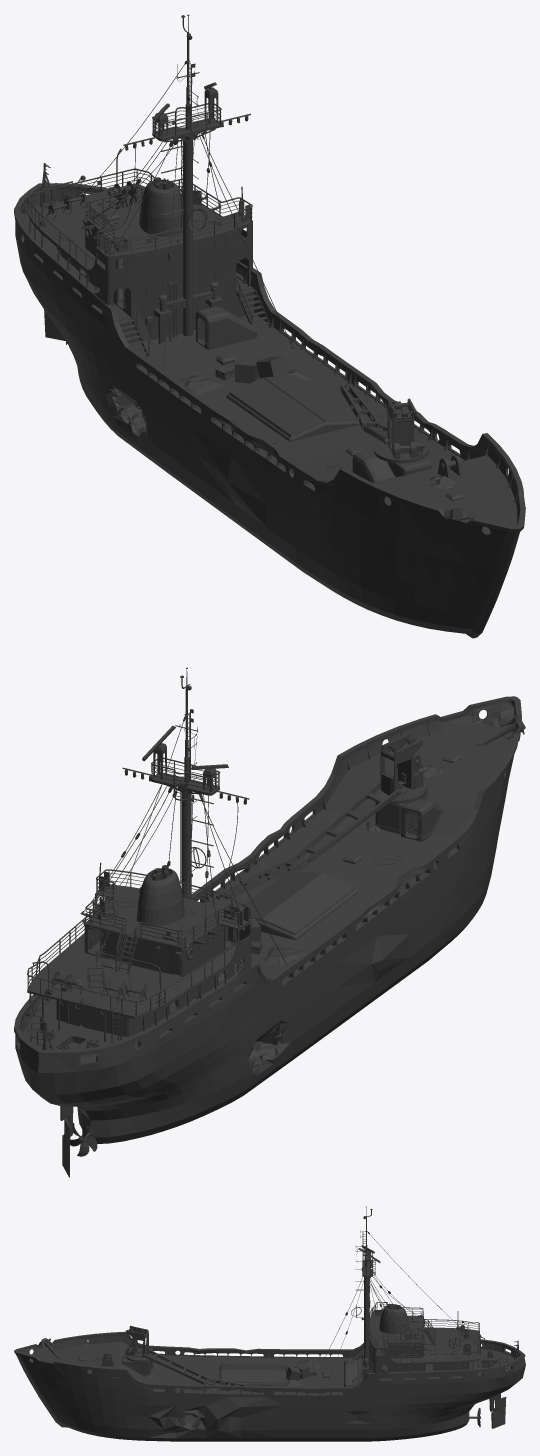
The model's file is mesh_2206_Shipwreck_13_LOD0.glb.
The picture shows the model from 3 angles, top to bottom: view 1: azimuth 30°, elevation 25°; view 2: azimuth 150°, elevation 25°; view 3: azimuth 270°, elevation 25°; orthographic projection. The views are drawn at different scales.
Parts seen in each view (by area): view 1: Shipwreck_13_LOD0; view 2: Shipwreck_13_LOD0; view 3: Shipwreck_13_LOD0.
Part boxes in pixels (x1,y1,x2,y2): Shipwreck_13_LOD0: (14, 14, 525, 638); Shipwreck_13_LOD0: (14, 667, 525, 1177); Shipwreck_13_LOD0: (14, 1206, 525, 1441).
Size of the model in its own units: 13.92 by 34.27 by 72.
Materials: 1 (1 with a texture image).
